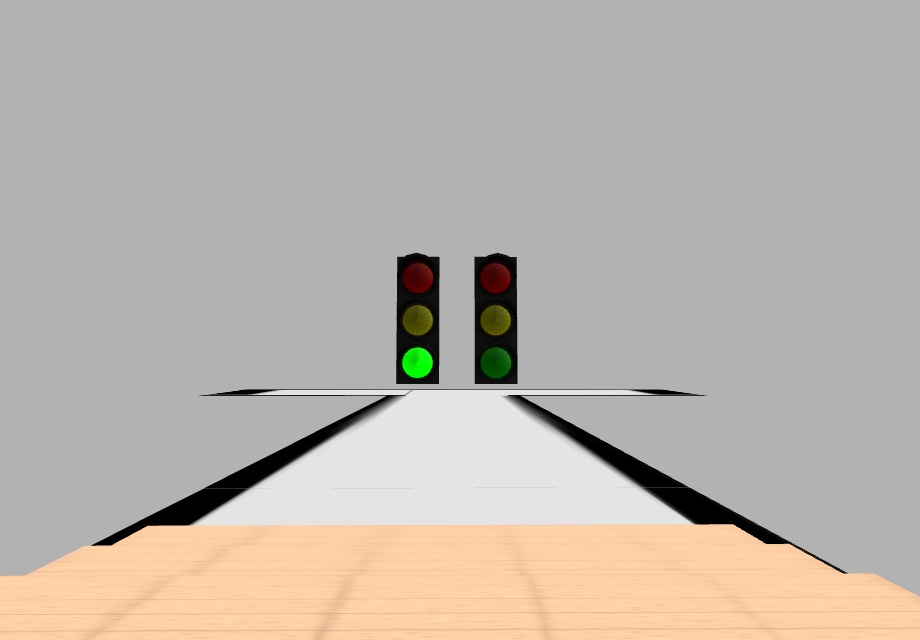green_off: (480, 345, 513, 377)
green_on: (400, 344, 436, 380)
stairs: (3, 521, 920, 640)
